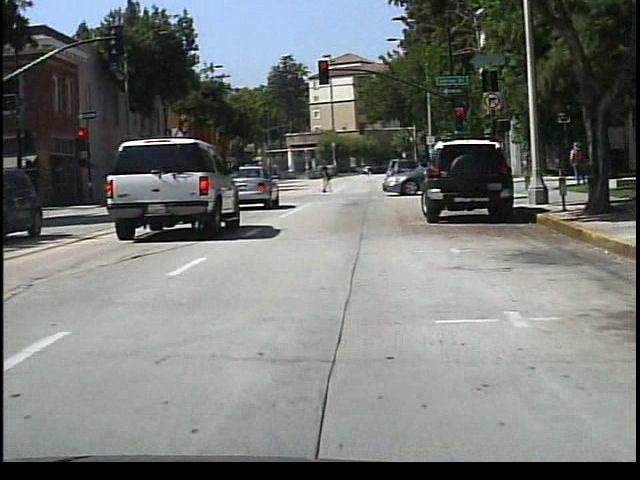person: (566, 140, 585, 186), (316, 159, 335, 197), (458, 151, 475, 186)
